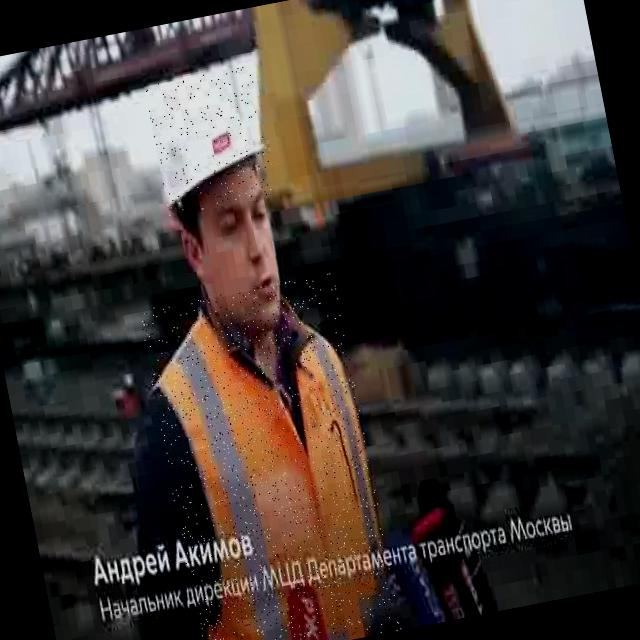helmet: (145, 66, 276, 216)
vest: (137, 273, 403, 640)
